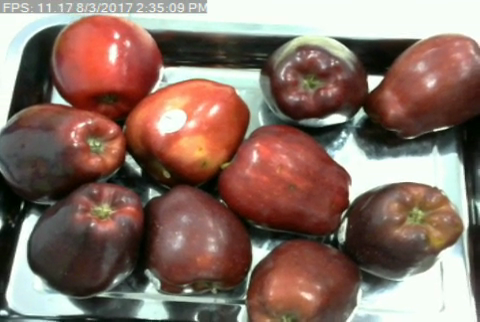Apple: (215, 122, 351, 240), (117, 75, 251, 189), (23, 179, 145, 298), (136, 180, 255, 296), (357, 31, 480, 143), (343, 178, 469, 284), (47, 11, 166, 121), (0, 99, 128, 199), (258, 33, 368, 133), (244, 236, 364, 322)
